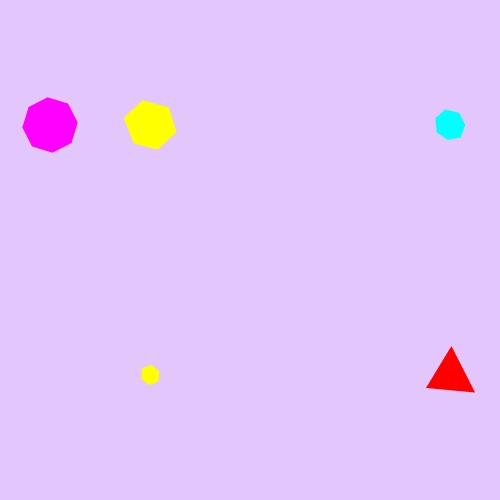heptagon: (431, 107, 470, 144)
hexagon: (120, 100, 181, 151), (135, 362, 165, 388)
octagon: (19, 94, 82, 157)
triangle: (425, 348, 476, 402)
